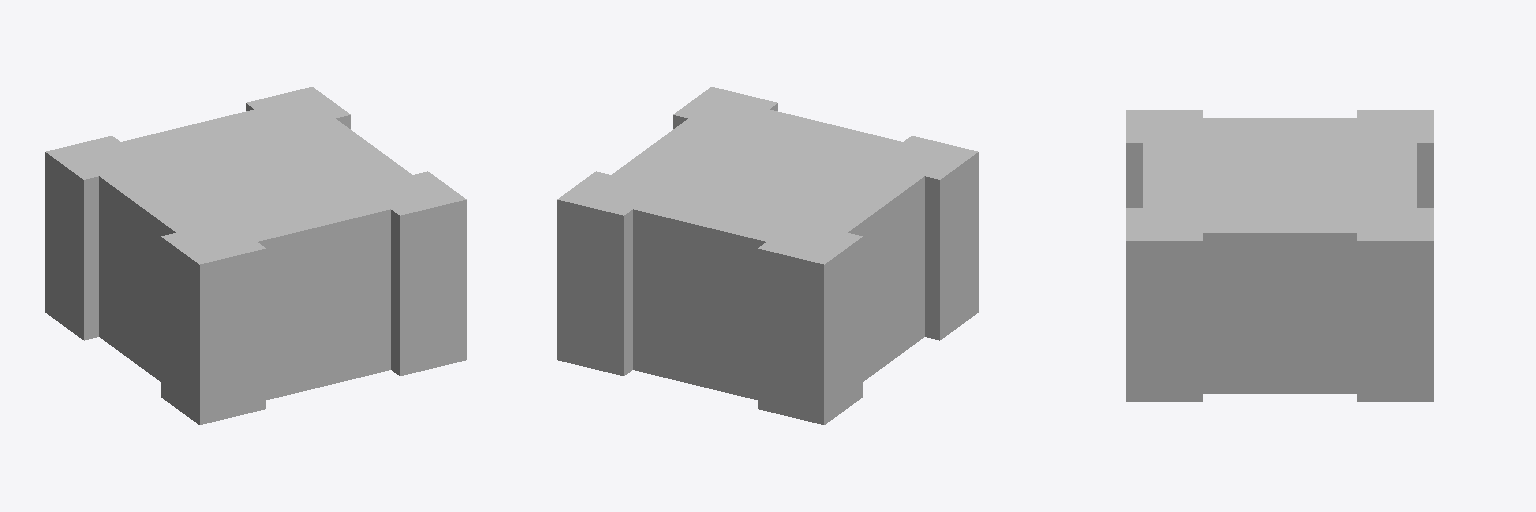
Rendered from towerSquare_middleB.obj.
The picture shows the model from 3 angles: view 1: azimuth 30°, elevation 25°; view 2: azimuth 150°, elevation 25°; view 3: azimuth 270°, elevation 25°; orthographic projection.
Visible parts, largest first — view 1: towerSquare_middleB; view 2: towerSquare_middleB; view 3: towerSquare_middleB.
Boxes of the visible parts, <box> form: towerSquare_middleB: <box>45,87,466,424</box>; towerSquare_middleB: <box>557,87,978,424</box>; towerSquare_middleB: <box>1126,110,1433,401</box>.
Bounding box in the file's own units: 0.87 × 0.5 × 0.87.